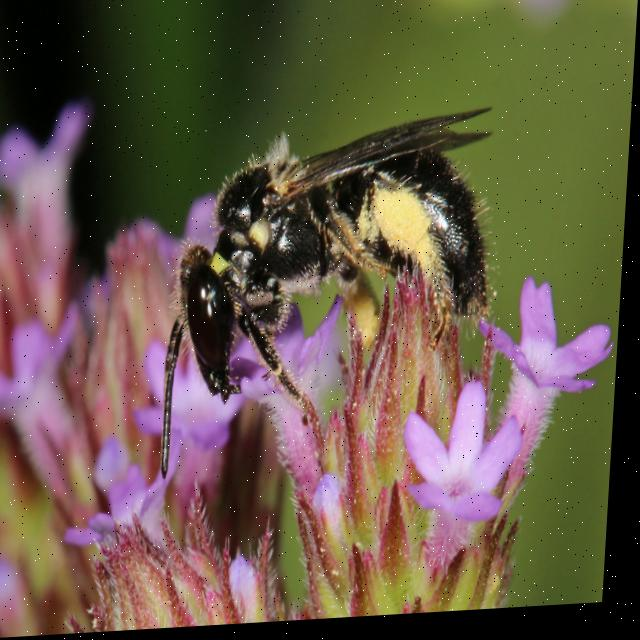Braunsapis: (133, 95, 519, 457)
